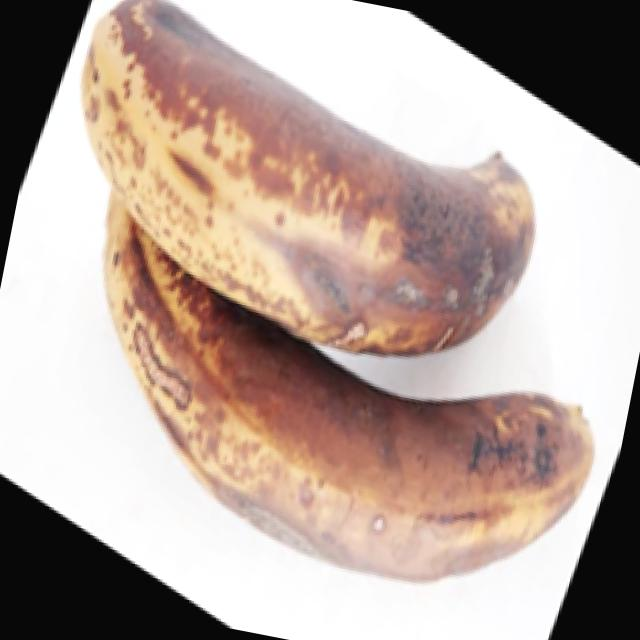Rotten_Banana: (0, 0, 591, 461)
